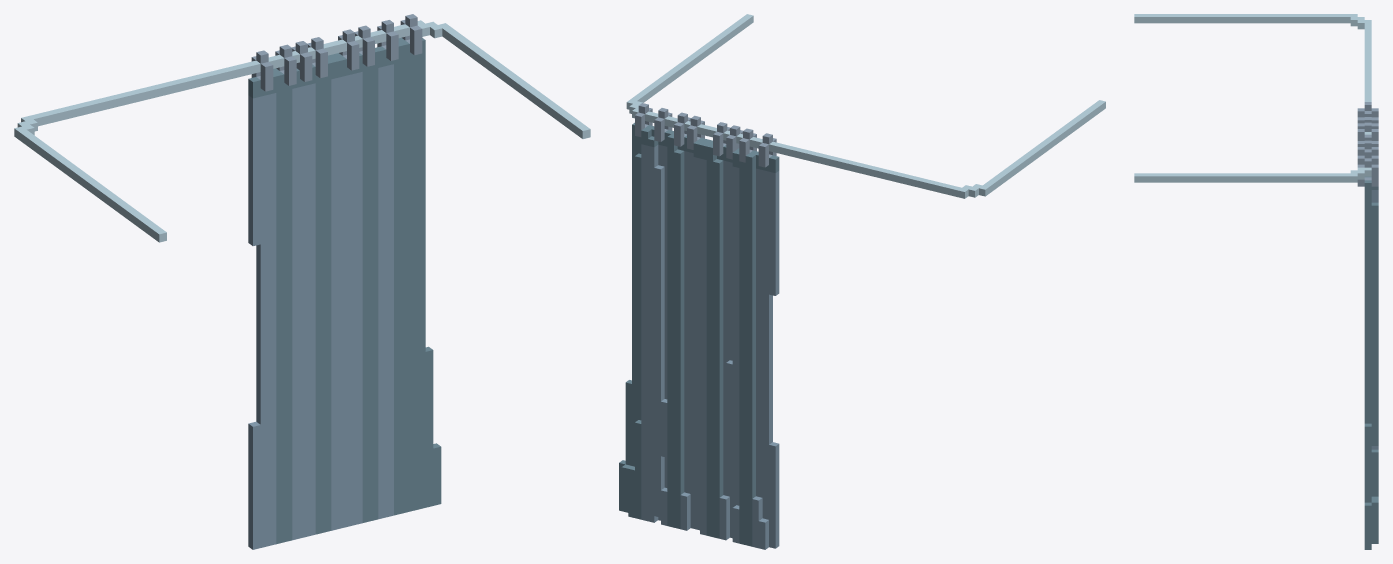
File: bathroomcurtain.obj
3 views of the same model, side by side, from view 1: azimuth 30°, elevation 25°; view 2: azimuth 150°, elevation 25°; view 3: azimuth 270°, elevation 25° (orthographic). The views are drawn at different scales.
Size of the model in its own units: 5.5 by 6 by 3.5.
Materials: 1 (1 with a texture image).
